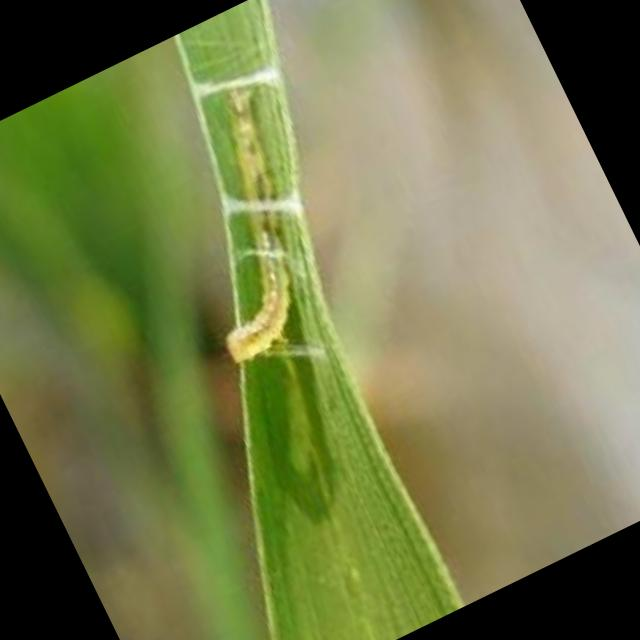leaf-folder: (70, 40, 388, 413)
